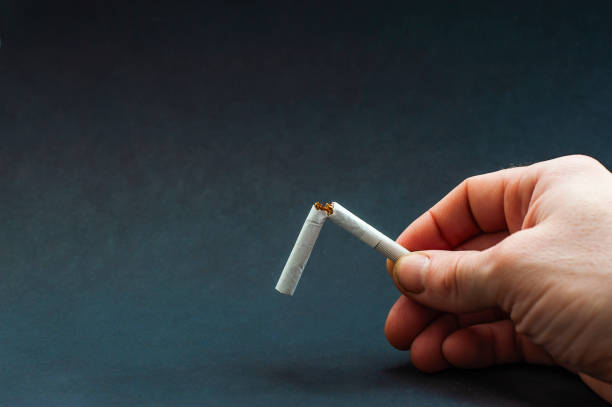cigarette: (274, 199, 329, 295), (325, 202, 411, 263)
